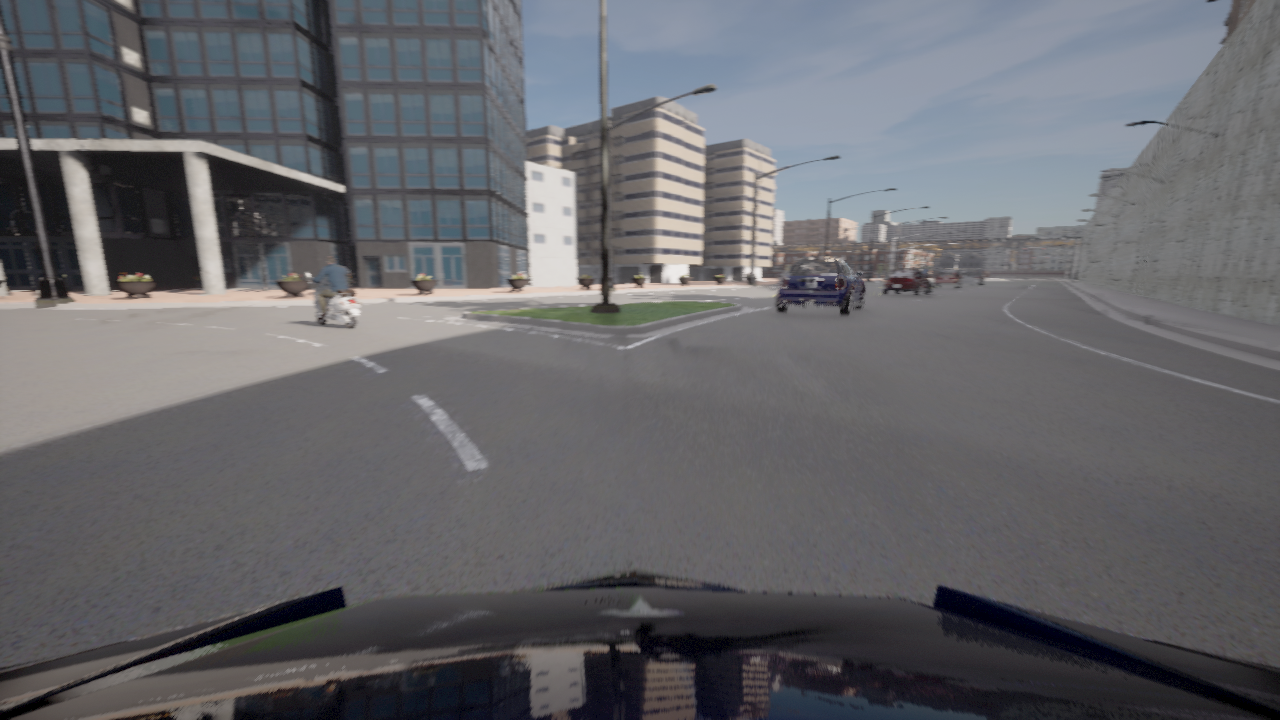cyclist: (0, 569, 1279, 719), (775, 257, 864, 316), (305, 272, 359, 329), (880, 270, 931, 295), (933, 270, 961, 289), (960, 271, 983, 285)
